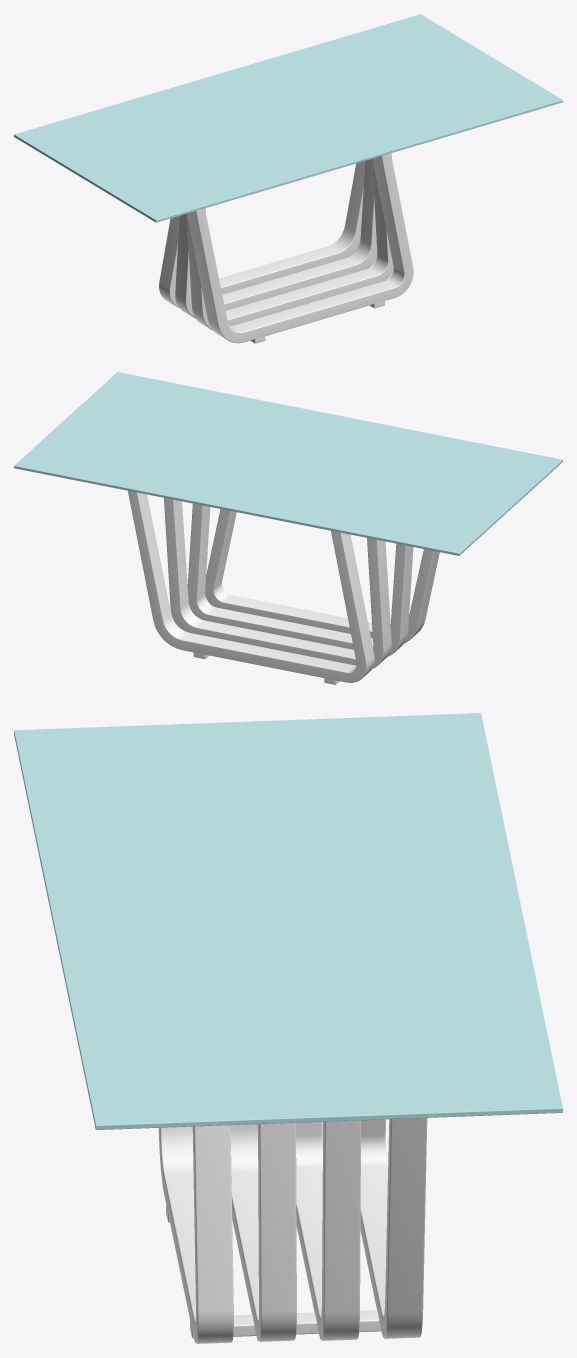
The model's file is mesita-v.1.1.glb.
3 views of the same model, one above another, from view 1: azimuth 30°, elevation 25°; view 2: azimuth 150°, elevation 25°; view 3: azimuth 270°, elevation 25° (orthographic). The views are drawn at different scales.
Parts seen in each view (by area): view 1: Part 125; view 2: Part 125; view 3: Part 125.
Part boxes in pixels (left/top/right/bottom): Part 125: left=14, top=14, right=562, bottom=343; Part 125: left=14, top=372, right=562, bottom=684; Part 125: left=14, top=713, right=562, bottom=1343.
Size of the model in its own units: 1.87 by 0.7493 by 1.05.
